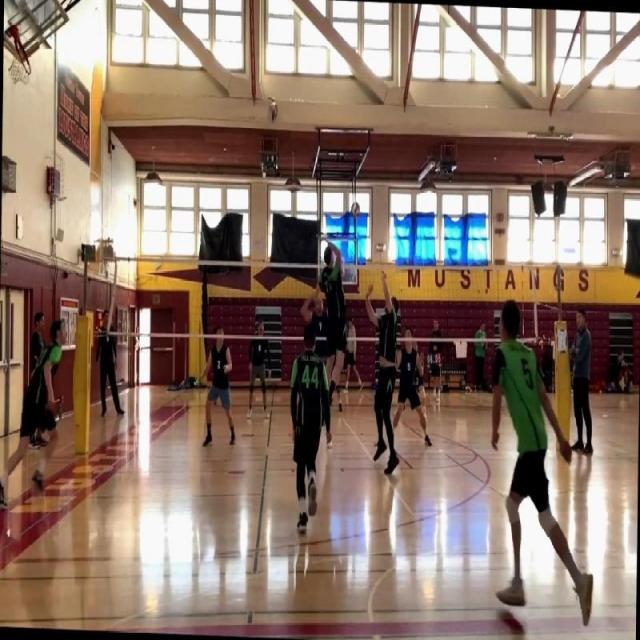volleyball: (351, 201, 360, 218)
